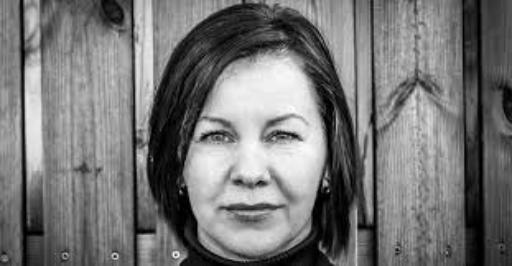left_eye: (264, 130, 307, 146)
left_lip_corner: (275, 203, 294, 214)
right_eye: (195, 131, 237, 146)
right_lip_corner: (215, 204, 233, 216)
